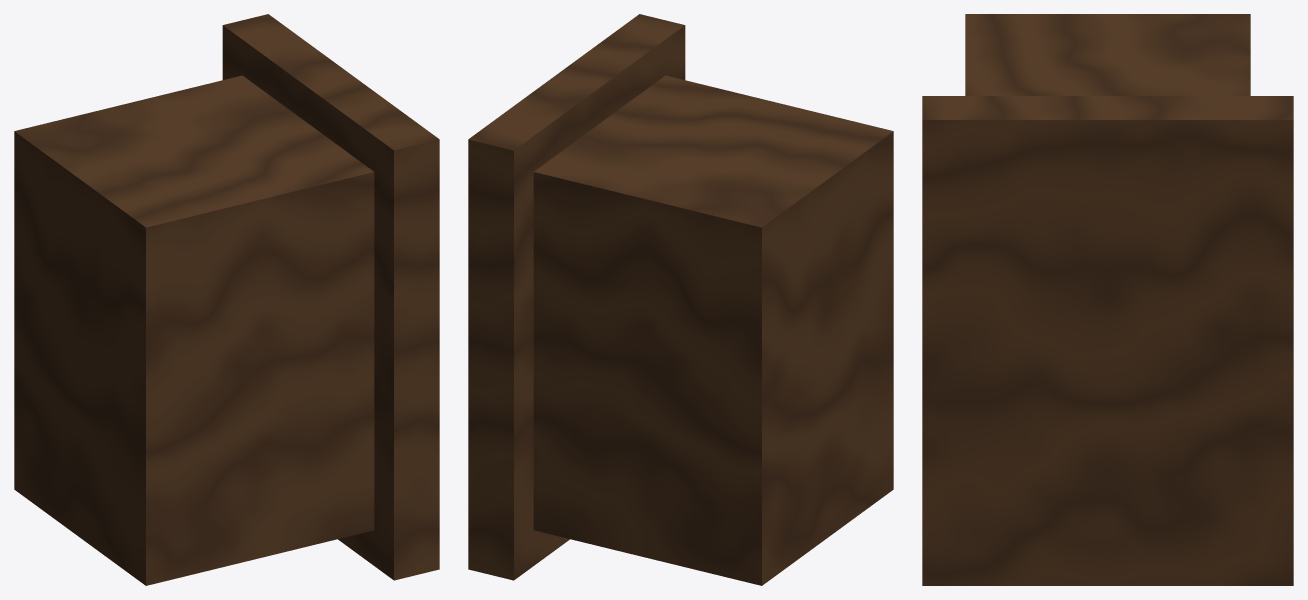
The model's file is beam_end_cap.glb.
3 renders of one model, left to right at view 1: azimuth 30°, elevation 25°; view 2: azimuth 150°, elevation 25°; view 3: azimuth 270°, elevation 25°, orthographic. The views are drawn at different scales.
Parts seen in each view (by area): view 1: beam_end_cap; view 2: beam_end_cap; view 3: beam_end_cap.
Part boxes in pixels (x1=…): beam_end_cap: x1=14, y1=14, x2=439, y2=585; beam_end_cap: x1=468, y1=14, x2=893, y2=585; beam_end_cap: x1=922, y1=14, x2=1293, y2=585.
Bounding box in the file's own units: 0.24 × 0.36 × 0.26.
1 material, 1 textured.
